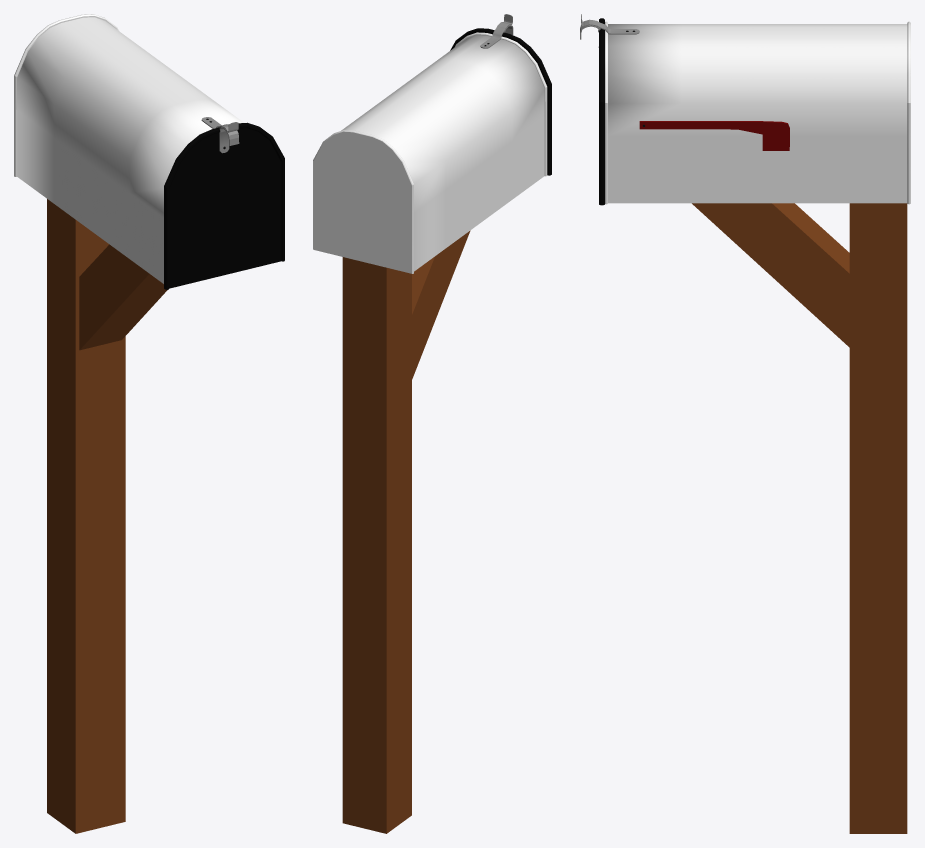
The model's file is mail2.FBX.
The picture shows the model from 3 angles, left to right: view 1: azimuth 30°, elevation 25°; view 2: azimuth 150°, elevation 25°; view 3: azimuth 270°, elevation 25°; orthographic projection. The views are drawn at different scales.
Parts seen in each view (by area): view 1: Box001, Box008, Box006; view 2: Box008, Box001, Box006; view 3: Box001, Box008, Box007.
Boxes of the visible parts, x1,y1,x2,y2 form: Box001: (14,14,284,289); Box008: (47,199,167,833); Box006: (201,117,239,153); Box008: (342,230,470,833); Box001: (313,28,551,273); Box006: (480,14,513,48); Box001: (599,18,910,205); Box008: (692,203,907,833); Box007: (639,121,789,150).
Bounding box in the file's own units: 14.4 × 92.42 × 34.37.
